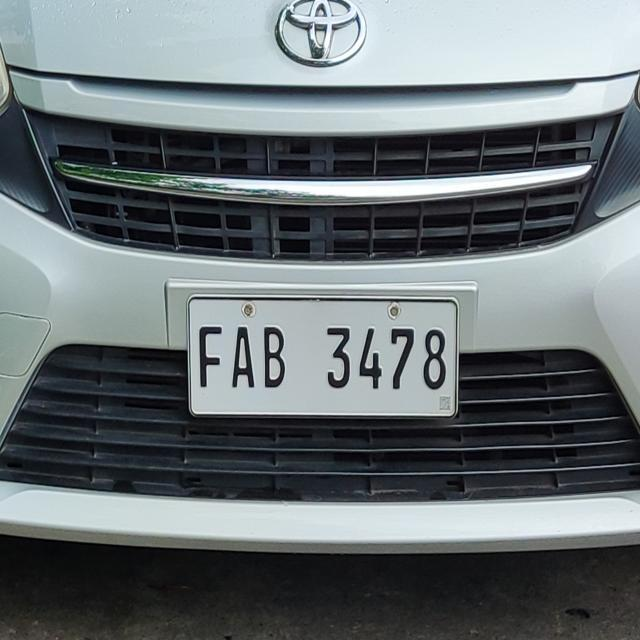LicensePlate: (179, 288, 463, 421)
